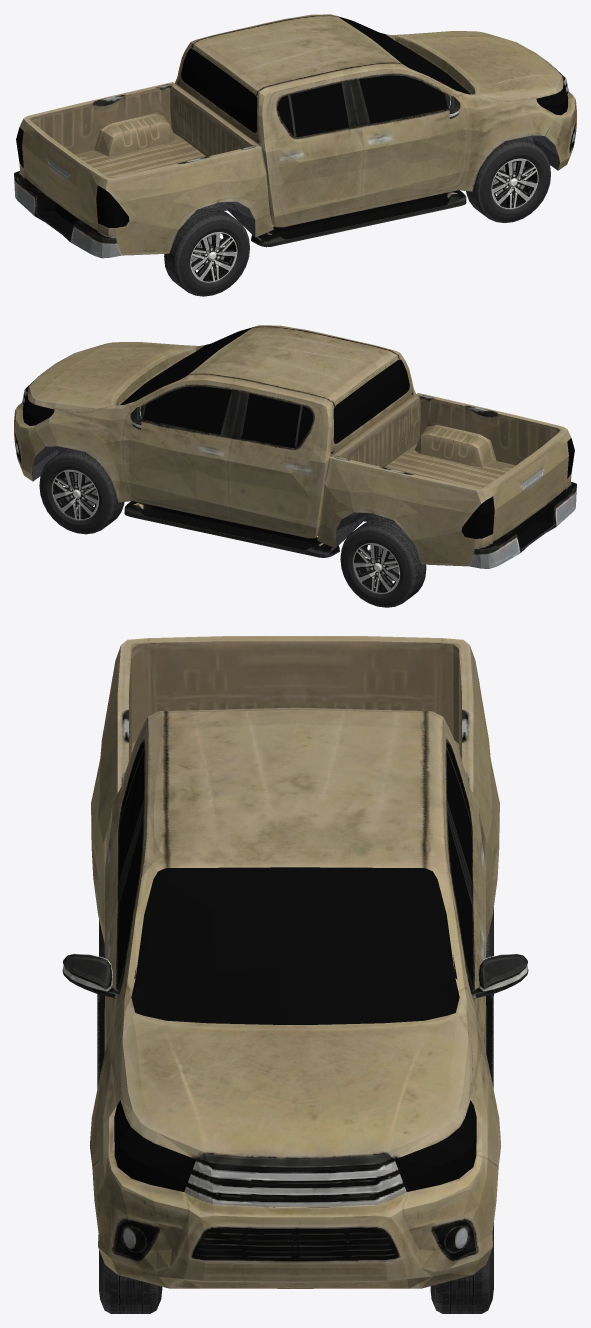
Rendered from VEHICLE.fbx.
3 views of the same model, one above another, from view 1: azimuth 30°, elevation 25°; view 2: azimuth 150°, elevation 25°; view 3: azimuth 270°, elevation 25° (orthographic). The views are drawn at different scales.
Parts seen in each view (by area): view 1: Body, Glass, Interior; view 2: Body, Glass, Interior; view 3: Body, Glass, Interior.
Part boxes in pixels (<box>): Body: <box>14,14,576,258</box>; Glass: <box>16,16,568,227</box>; Interior: <box>164,137,550,296</box>; Body: <box>14,325,576,568</box>; Glass: <box>22,327,574,538</box>; Interior: <box>39,399,426,607</box>; Body: <box>62,636,528,1288</box>; Glass: <box>114,679,479,1191</box>; Interior: <box>99,908,493,1313</box>.
Bounding box in the file's own units: 5.39 × 1.89 × 2.16.
Materials: 3 (3 with a texture image).
